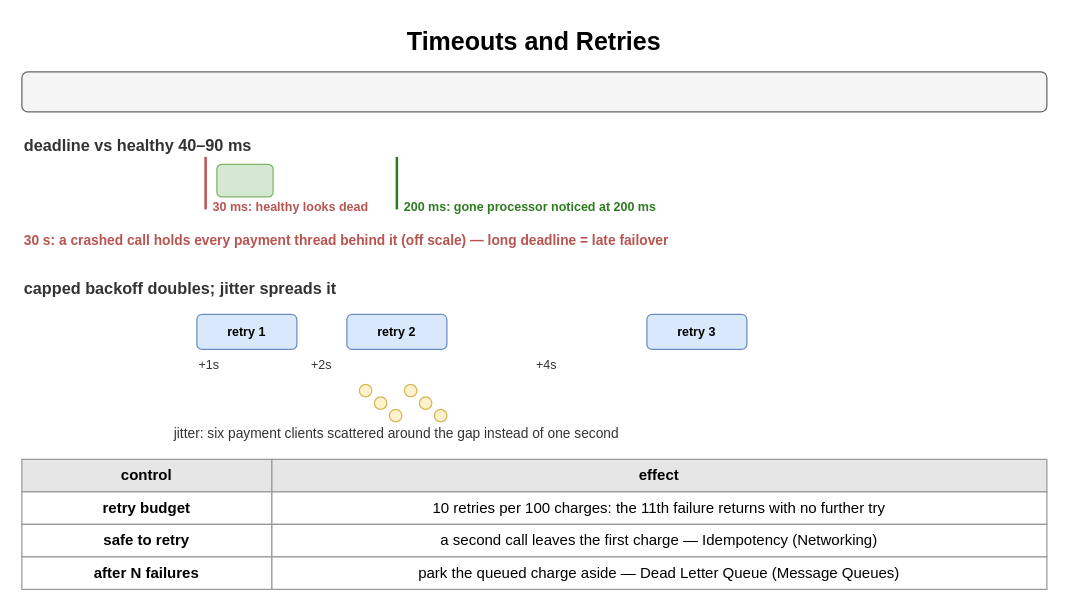
This 1069x611 diagram has some shape labels left out. Each missing label, with the centre of its shape:
healthy: the point at 244,180
Processor calls answer in 40–90 ms: deadline, growing gap, spread, and cap: the point at 534,91
